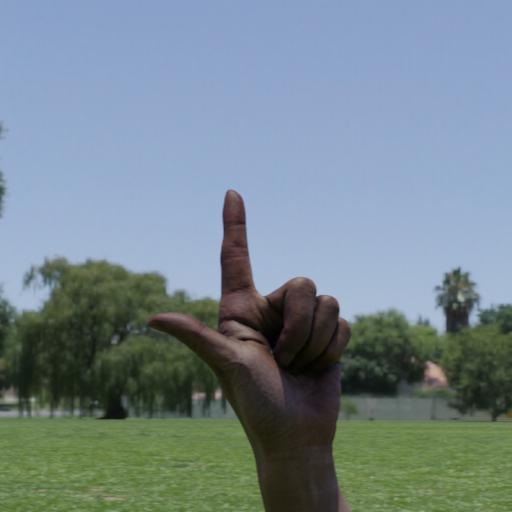L: (137, 178, 363, 465)
